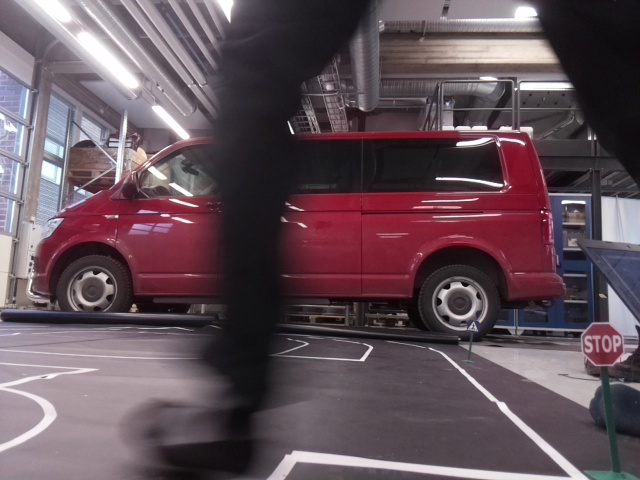Crosswalk: (466, 317, 480, 334)
Stop: (581, 321, 624, 367)
